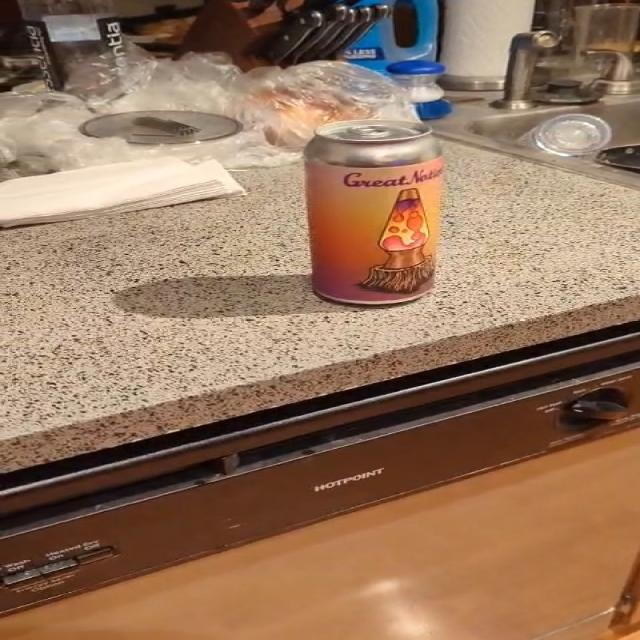metal: (305, 120, 445, 305)
